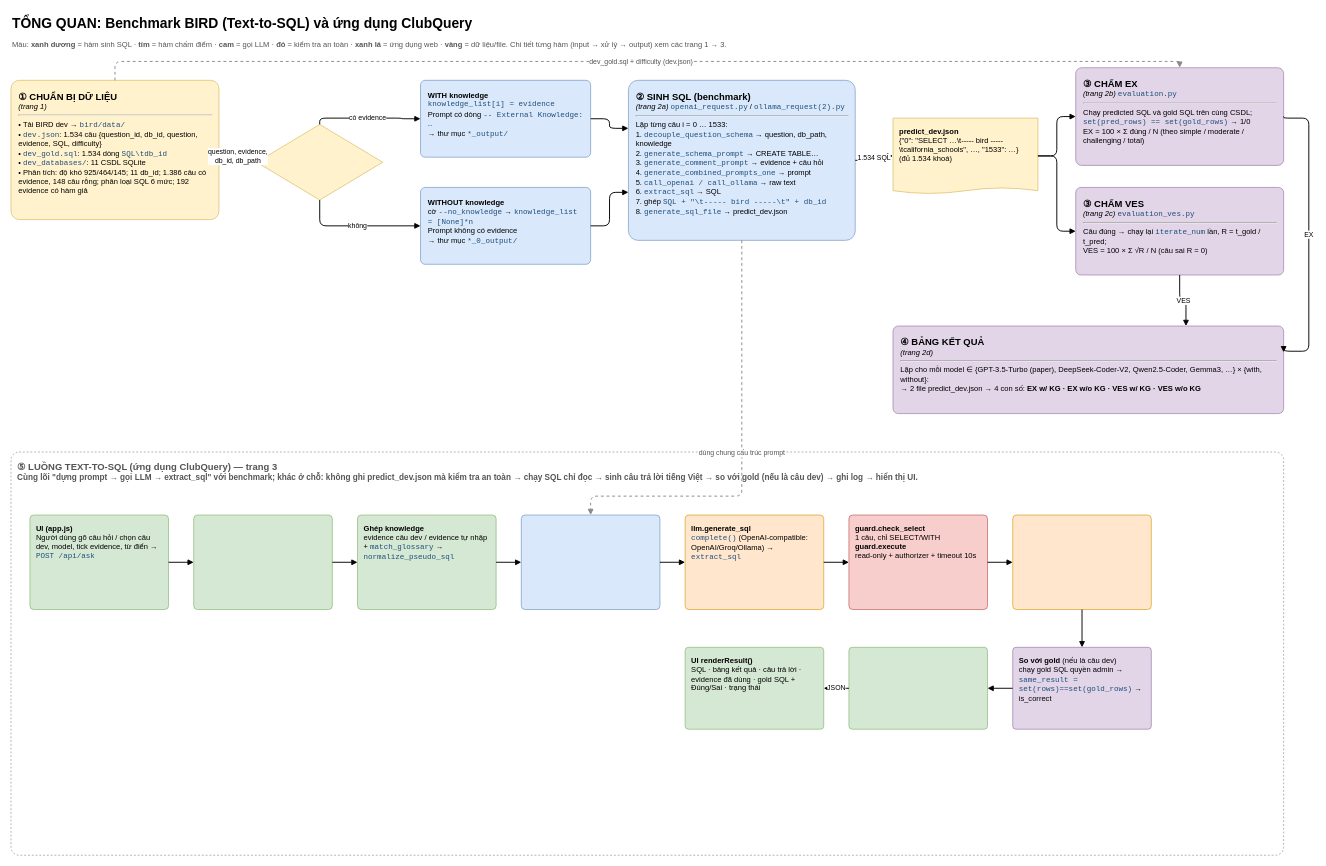
This 1326x866 diagram has some shape labels left out. Each missing label, with the box of its shape:
answer.make_answer LLM trả lời 1–3 câu tiếng Việt (hoặc template): (1012, 514, 1151, 610)
Cấu hình evidence?: (256, 124, 383, 200)
Ghi query_log câu hỏi, SQL, trạng thái, latency, is_correct…: (848, 647, 988, 729)
main.ask + current_user xác thực token, lấy role → service.ask: (193, 514, 332, 610)
prompt.build_prompt schema đã lọc theo role + comment + "Respond … ```sql": (521, 514, 660, 610)
